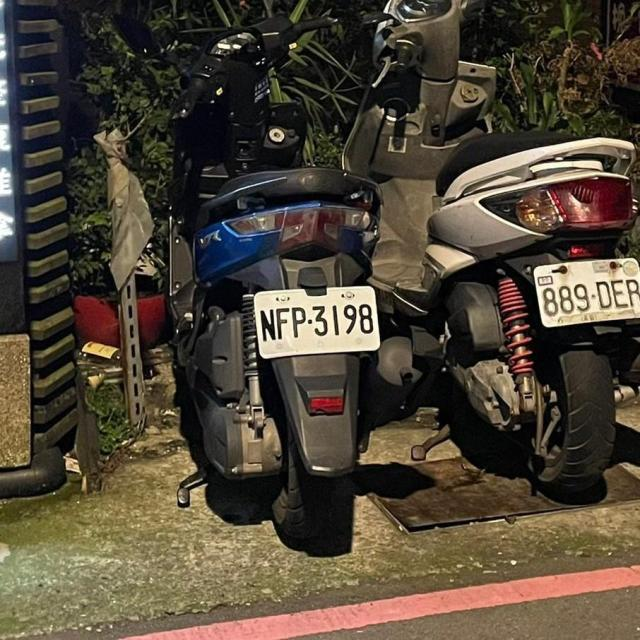W: (251, 280, 385, 358), (524, 247, 640, 329)
